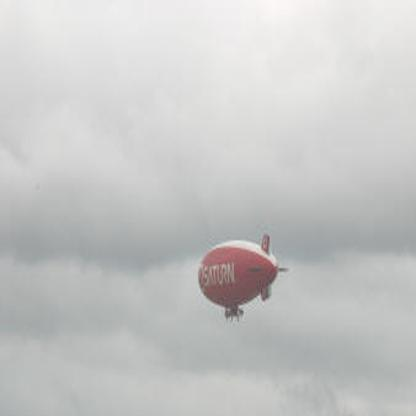Airship: (195, 232, 291, 327)
